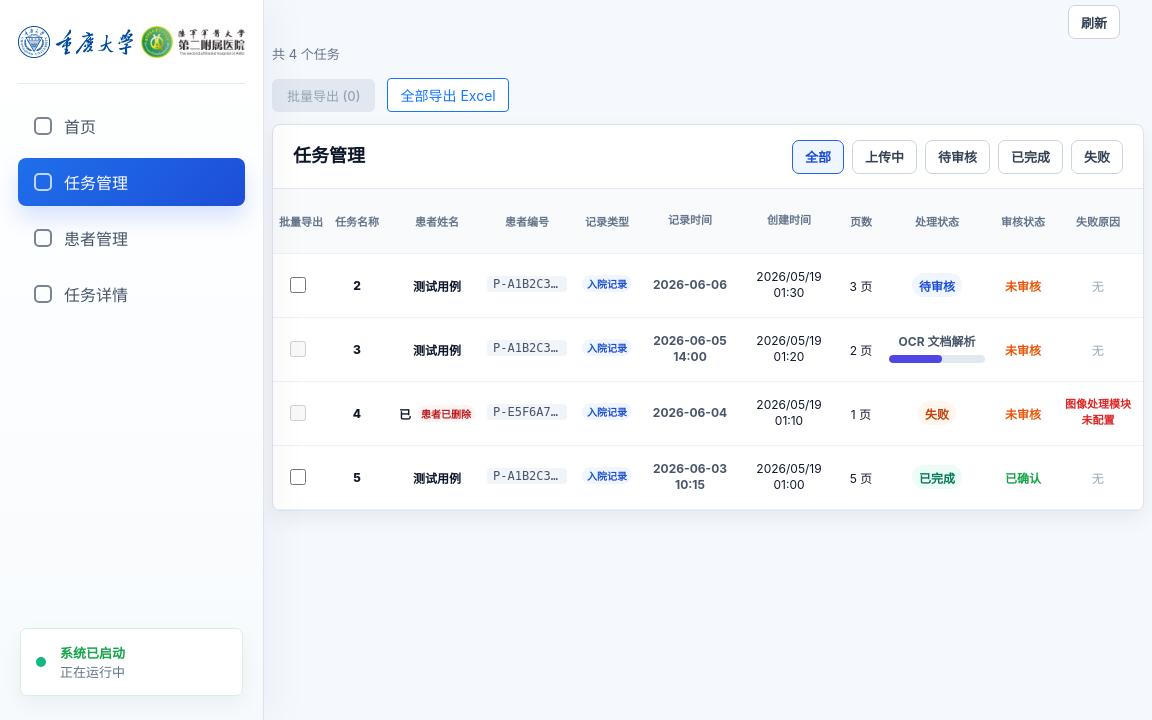
Test: MVP task list and retry › filters by five MVP statuses
Expected: the table named "任务列表" is shown, [273,189,1143,510]
Click the button "待审核": (958, 156) [925,140,990,174]
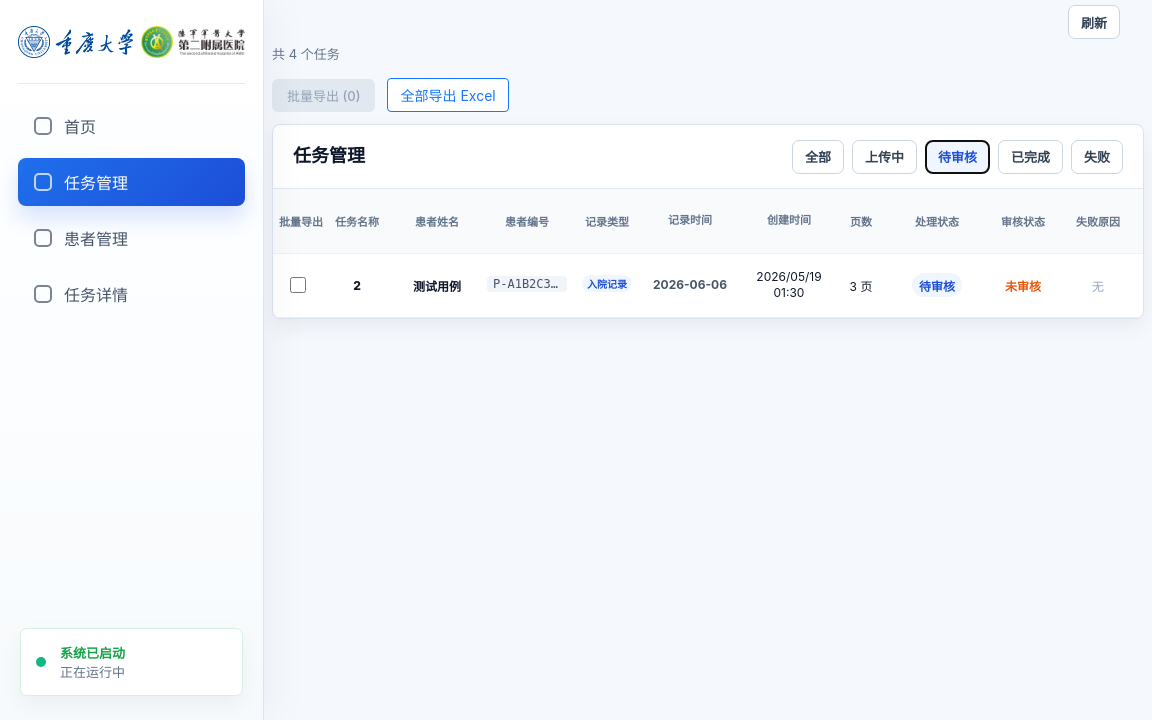
Expected: the text "2" is shown, [321,253,393,317]
Click the button "失败": (1097, 156) [1071,140,1123,174]
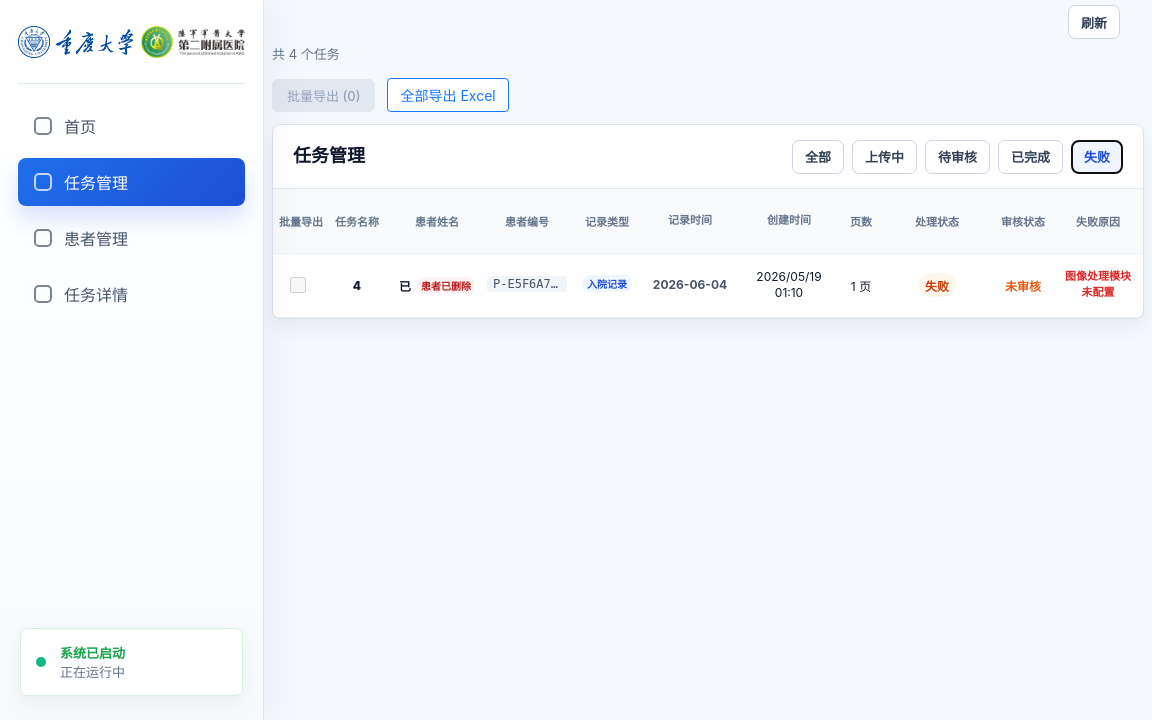
Result: the text "4" is shown at [321,253,393,317]
Result: the text "3" is gone
